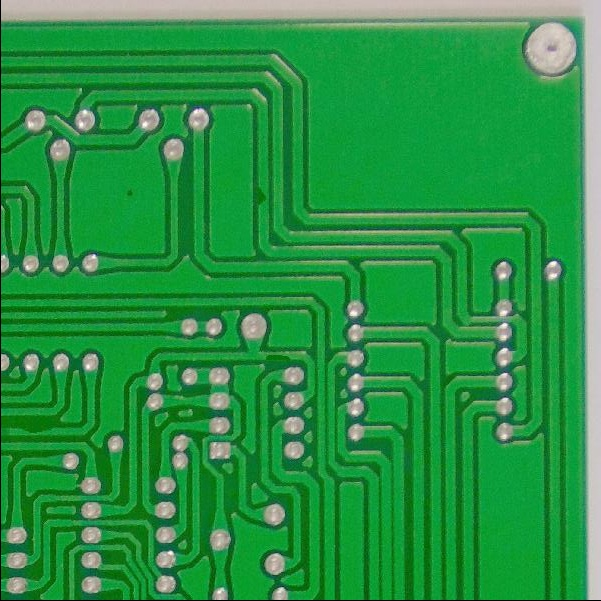mouse_bite: (13, 419, 55, 439), (260, 349, 295, 365), (253, 180, 270, 212)
